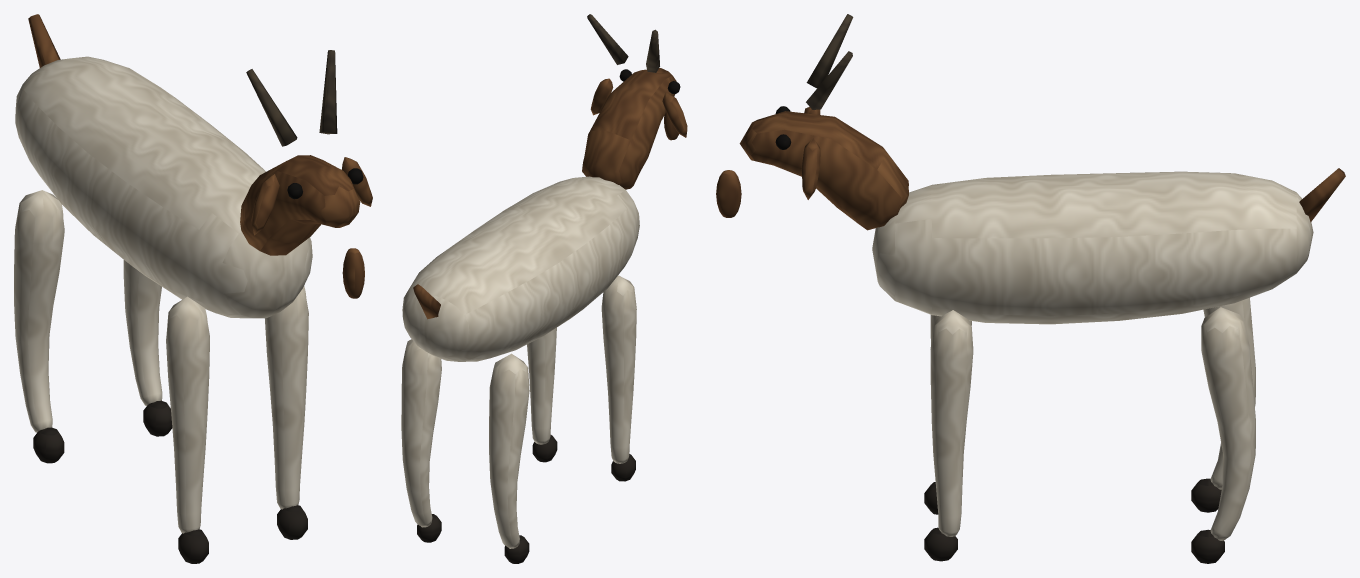
The model's file is animal_malabari_goat.glb.
3 views of the same model, side by side, from view 1: azimuth 30°, elevation 25°; view 2: azimuth 150°, elevation 25°; view 3: azimuth 270°, elevation 25° (orthographic). The views are drawn at different scales.
Visible parts, largest first — view 1: Body.002, Head.002, Leg_BL.002, Leg_FL.002, Leg_FR.002, Leg_BR.002, Horns.002, Leg_BL_Foot.002, Tail.002, Leg_BR_Foot.002, Leg_FR_Foot.002, Leg_FL_Foot.002; view 2: Body.002, Head.002, Leg_BL.002, Leg_BR.002, Leg_FL.002, Leg_FR.002, Horns.002, Tail.002, Leg_FR_Foot.002, Leg_FL_Foot.002, Leg_BL_Foot.002, Leg_BR_Foot.002; view 3: Body.002, Head.002, Leg_BR.002, Leg_FR.002, Horns.002, Leg_BL.002, Tail.002, Leg_BR_Foot.002, Leg_FR_Foot.002, Leg_BL_Foot.002.
Part boxes in pixels (bbox=[...]): Body.002: bbox=[15, 56, 312, 318]; Head.002: bbox=[240, 155, 372, 298]; Leg_BL.002: bbox=[14, 190, 64, 432]; Leg_FL.002: bbox=[166, 296, 209, 533]; Leg_FR.002: bbox=[265, 286, 308, 509]; Leg_BR.002: bbox=[123, 260, 162, 405]; Horns.002: bbox=[246, 50, 337, 146]; Leg_BL_Foot.002: bbox=[33, 427, 64, 463]; Tail.002: bbox=[28, 14, 60, 67]; Leg_BR_Foot.002: bbox=[143, 400, 172, 436]; Leg_FR_Foot.002: bbox=[277, 505, 307, 539]; Leg_FL_Foot.002: bbox=[178, 529, 208, 563]; Body.002: bbox=[402, 176, 639, 361]; Head.002: bbox=[582, 68, 687, 189]; Leg_BL.002: bbox=[489, 353, 529, 548]; Leg_BR.002: bbox=[401, 339, 441, 527]; Leg_FL.002: bbox=[601, 275, 636, 463]; Leg_FR.002: bbox=[527, 327, 556, 444]; Horns.002: bbox=[587, 14, 659, 72]; Tail.002: bbox=[413, 284, 440, 319]; Leg_FR_Foot.002: bbox=[532, 435, 557, 462]; Leg_FL_Foot.002: bbox=[611, 454, 635, 481]; Leg_BL_Foot.002: bbox=[504, 535, 529, 563]; Leg_BR_Foot.002: bbox=[417, 514, 441, 542]; Body.002: bbox=[872, 171, 1313, 324]; Head.002: bbox=[716, 107, 908, 230]; Leg_BR.002: bbox=[1201, 307, 1255, 540]; Leg_FR.002: bbox=[930, 310, 973, 536]; Horns.002: bbox=[806, 14, 853, 109]; Leg_BL.002: bbox=[1203, 297, 1255, 489]; Tail.002: bbox=[1299, 168, 1345, 222]; Leg_BR_Foot.002: bbox=[1191, 529, 1224, 563]; Leg_FR_Foot.002: bbox=[924, 527, 957, 561]; Leg_BL_Foot.002: bbox=[1191, 478, 1221, 512].
Size of the model in its own units: 0.2801 by 0.9182 by 1.04.
Materials: 5 (5 with a texture image).
